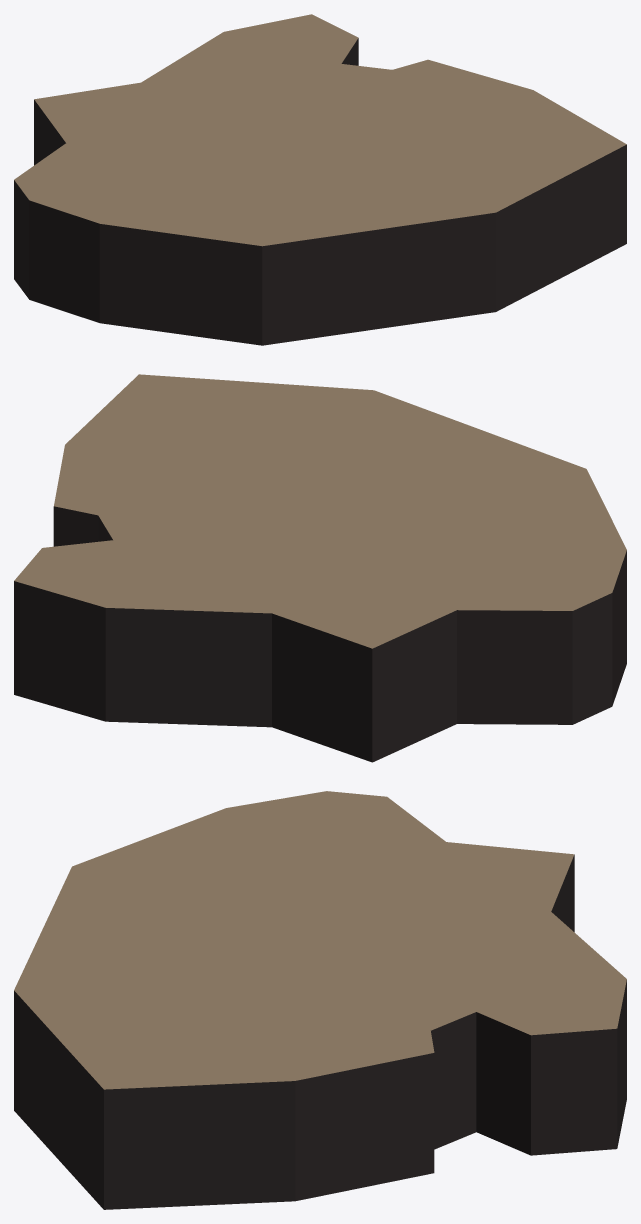
File: playerHouseLevelB.gltf
The picture shows the model from 3 angles, top to bottom: view 1: azimuth 30°, elevation 25°; view 2: azimuth 150°, elevation 25°; view 3: azimuth 270°, elevation 25°; orthographic projection. The views are drawn at different scales.
Visible parts, largest first — view 1: pHouseLevel; view 2: pHouseLevel; view 3: pHouseLevel.
Part boxes in pixels (left/top/right/bottom): pHouseLevel: left=14, top=14, right=626, bottom=345; pHouseLevel: left=14, top=374, right=626, bottom=762; pHouseLevel: left=14, top=791, right=626, bottom=1209.
Size of what is drawn, in the model's own units: 42.56 by 8 by 36.93.
Materials: 1 (1 with a texture image).
